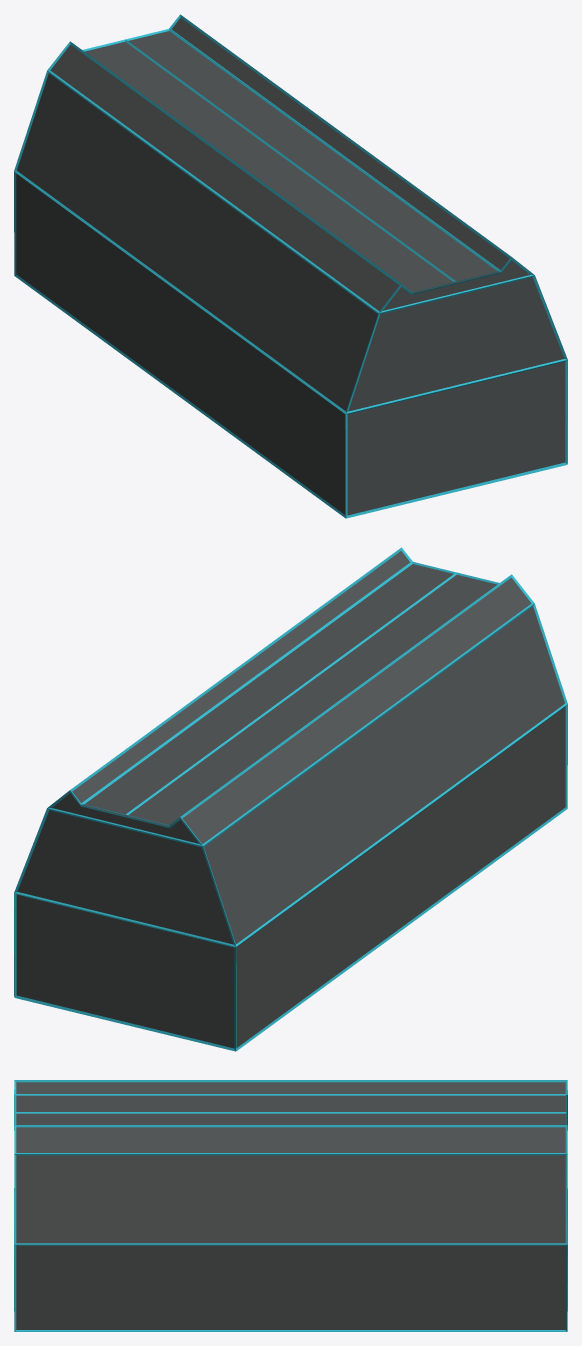
Rendered from struct4.dae.
The picture shows the model from 3 angles, top to bottom: view 1: azimuth 30°, elevation 25°; view 2: azimuth 150°, elevation 25°; view 3: azimuth 270°, elevation 25°; orthographic projection. The views are drawn at different scales.
Parts seen in each view (by area): view 1: Export_struct4_a, Export_struct4_b; view 2: Export_struct4_a, Export_struct4_b; view 3: Export_struct4_a, Export_struct4_b.
Boxes of the visible parts, <box> form: Export_struct4_a: <box>16,18,565,515</box>; Export_struct4_b: <box>14,14,567,518</box>; Export_struct4_a: <box>16,551,565,1048</box>; Export_struct4_b: <box>14,547,567,1051</box>; Export_struct4_a: <box>15,1082,566,1329</box>; Export_struct4_b: <box>14,1080,567,1331</box>.
Size of what is drawn, in the model's own units: 40.43 by 104 by 38.38.
